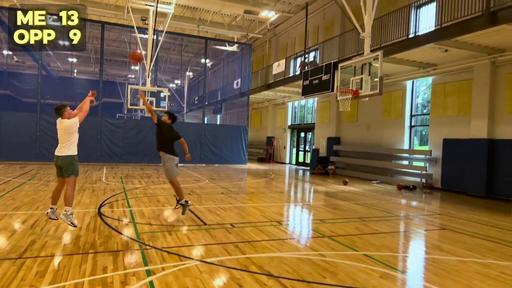ball: (128, 50, 144, 62), (342, 178, 350, 185)
human: (45, 90, 97, 228), (138, 90, 192, 216)
rim: (336, 88, 358, 112)
